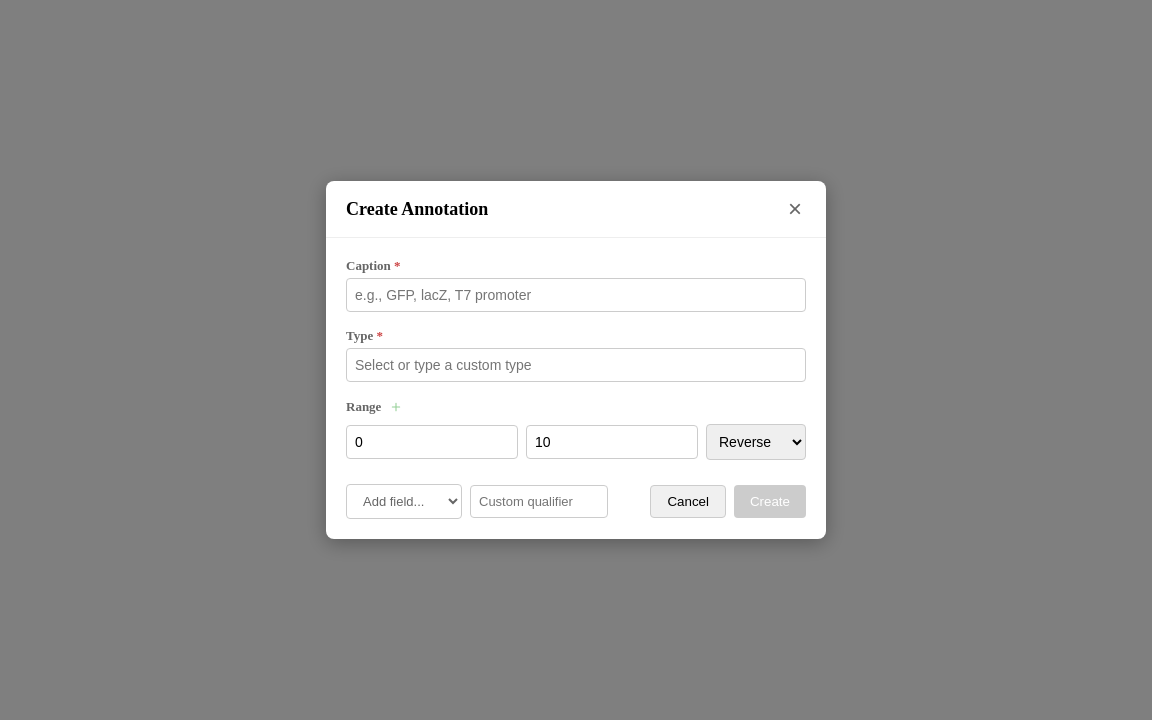
Test: AnnotationModal › ranges section › new range inherits strand from last range
Click the button with class "btn-add-range" at [396, 407], box [387,398,405,416]
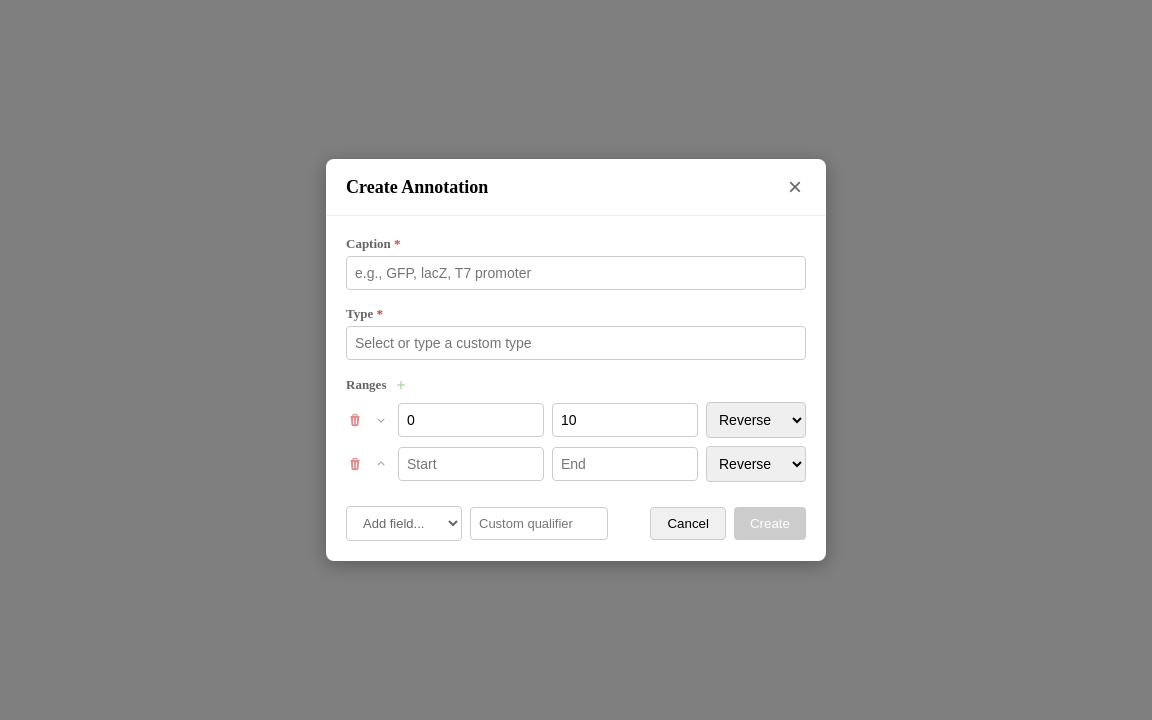
expect the 2nd dropdown with class "range-strand" shows "Reverse": met, box [706,446,806,482]
